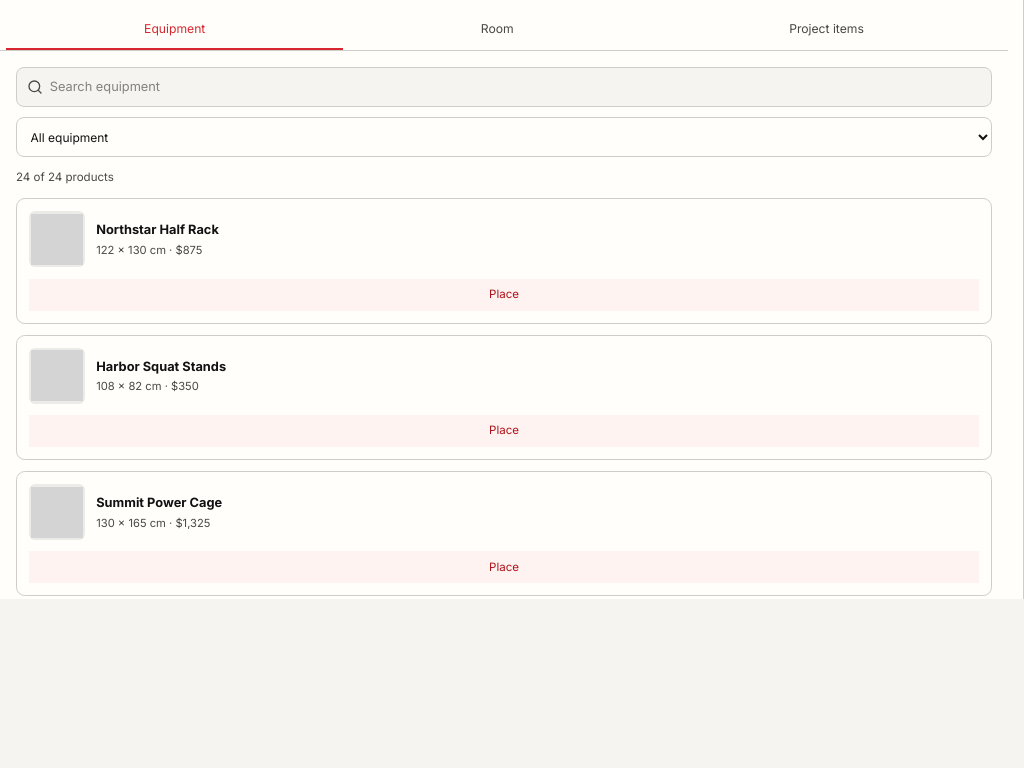
Test: ElementPanel workspace tabs › keeps Room focused on room dimensions and placement tools rather than project settings
Click the tab "Room": click(497, 30) left=343, top=10, right=651, bottom=50
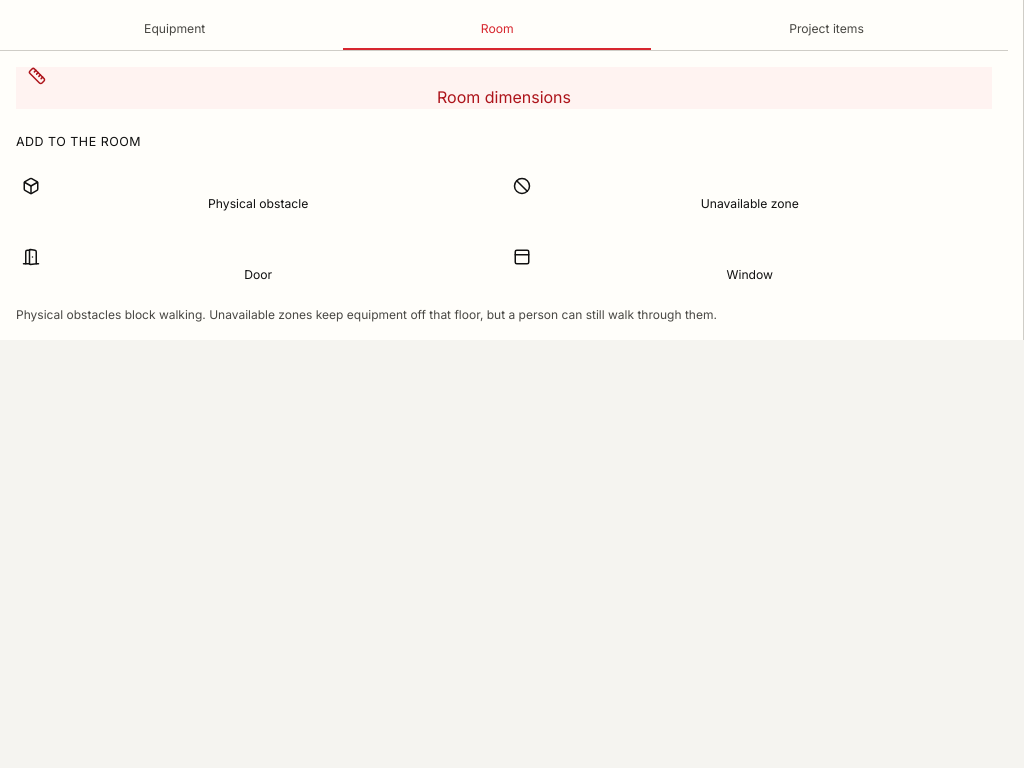
expect the button "Room dimensions" is shown: met, box left=16, top=67, right=992, bottom=109
expect the button "Physical obstacle" is shown: met, box left=16, top=163, right=500, bottom=227
expect the button "Unavailable zone" is shown: met, box left=508, top=163, right=992, bottom=227
